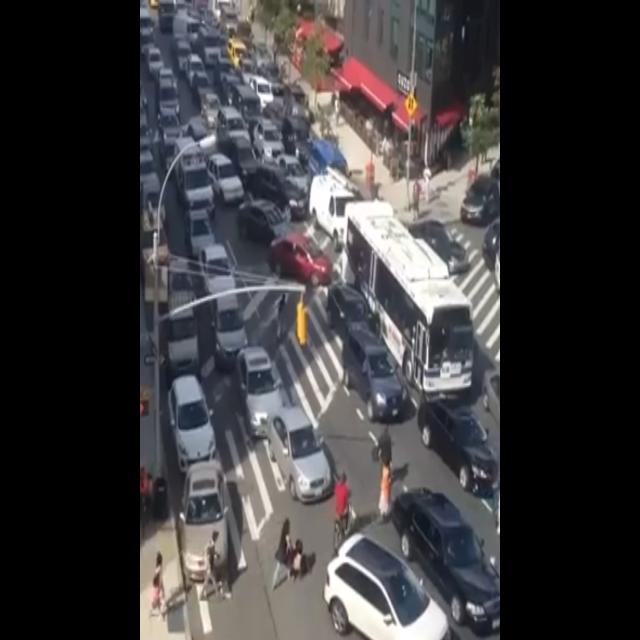Ambulance: (171, 134, 215, 218)
